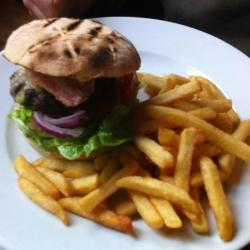burger: (5, 14, 137, 163)
fries: (142, 77, 232, 229)
